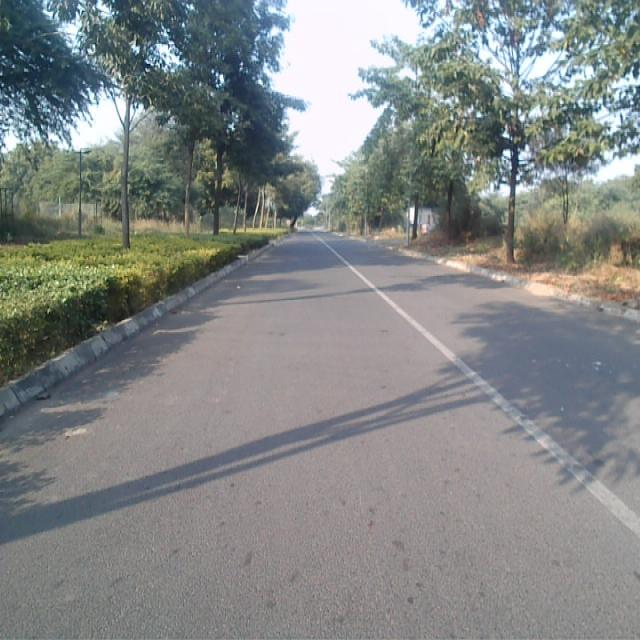lane: (0, 233, 640, 640)
